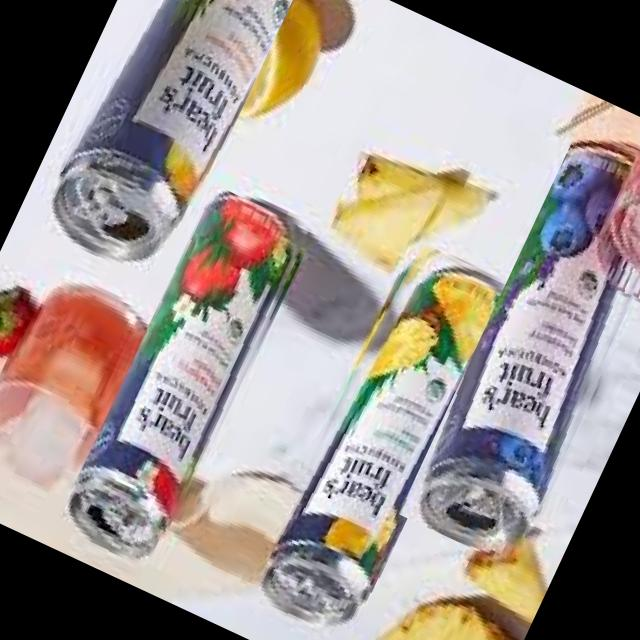Cans: (232, 230, 515, 640), (397, 117, 640, 570), (50, 183, 318, 582), (28, 0, 309, 285)
